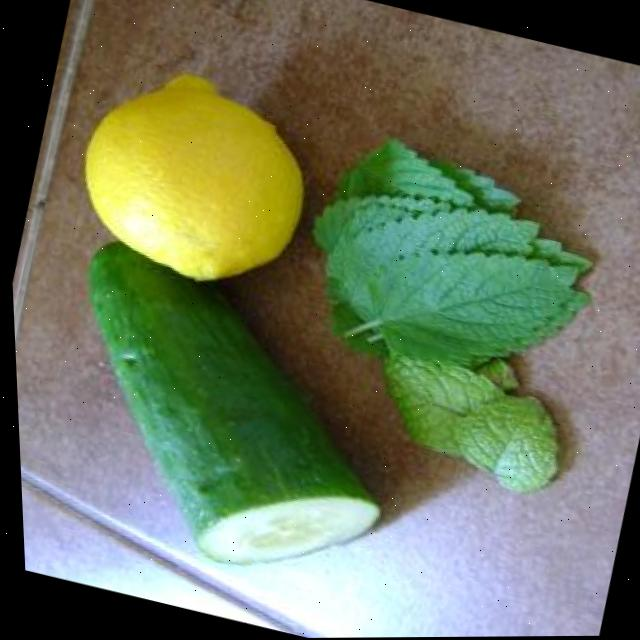Wet: (15, 231, 440, 604)
